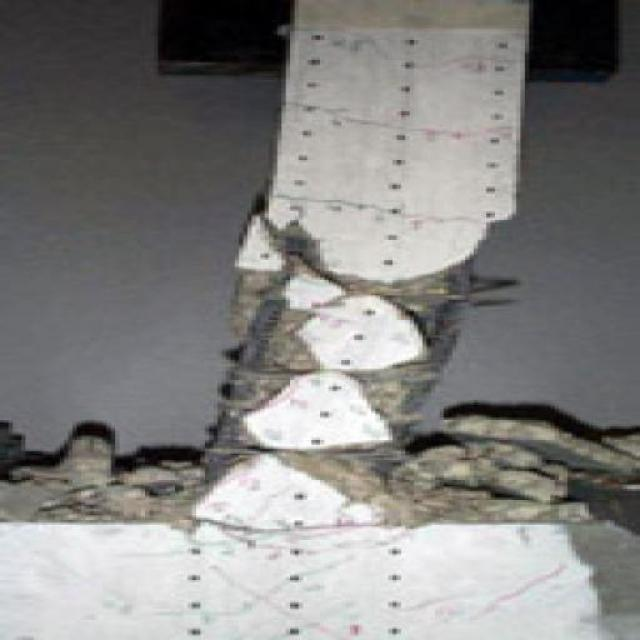D10: (206, 219, 519, 529), (555, 520, 639, 624)
